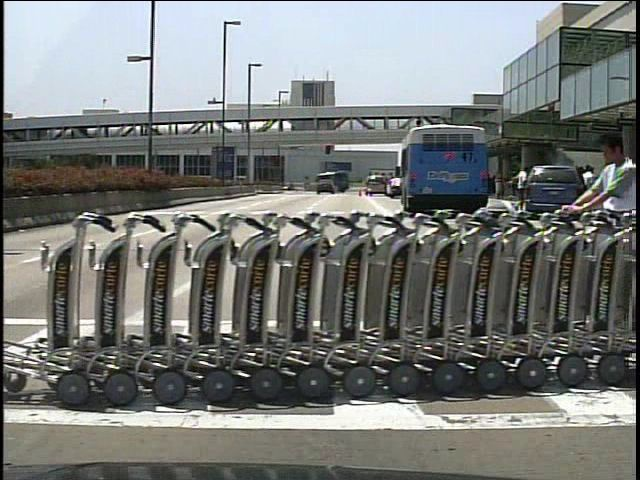person: (573, 126, 639, 355), (580, 165, 601, 214), (573, 164, 591, 221), (511, 162, 528, 211)
